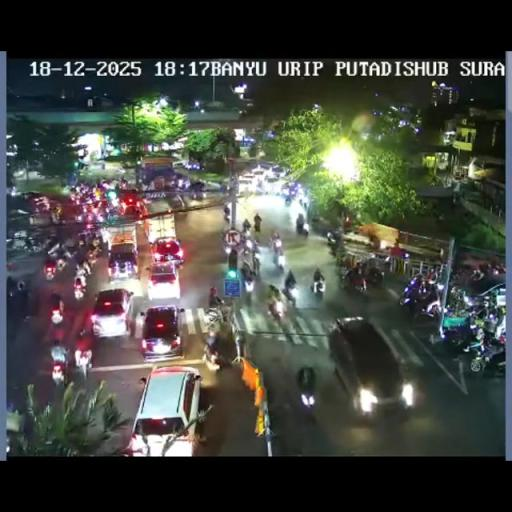Car: (327, 317, 414, 417), (128, 364, 203, 454), (138, 304, 184, 360), (90, 287, 136, 338), (146, 262, 182, 302), (106, 242, 140, 280), (150, 236, 186, 266), (118, 190, 144, 217), (26, 192, 52, 213), (263, 173, 282, 192), (237, 175, 254, 193)
Motorcycle: (222, 197, 310, 310), (401, 279, 442, 319), (466, 334, 505, 372), (438, 312, 476, 347), (477, 294, 505, 332), (278, 178, 309, 211), (202, 300, 231, 330), (445, 286, 470, 316), (342, 267, 368, 293), (266, 286, 283, 319), (6, 276, 28, 300), (204, 340, 222, 369), (283, 270, 298, 304), (74, 353, 92, 380), (310, 266, 325, 297), (364, 266, 385, 288), (299, 382, 316, 408), (73, 266, 88, 295), (84, 242, 102, 266), (240, 235, 258, 258), (50, 360, 65, 386), (294, 211, 309, 236), (43, 257, 58, 281), (76, 229, 94, 249), (234, 328, 246, 358), (271, 245, 285, 269), (26, 238, 44, 256), (242, 282, 254, 308), (190, 184, 206, 201), (104, 202, 119, 220), (240, 264, 254, 283), (335, 261, 348, 281), (50, 306, 64, 324), (488, 262, 506, 276), (49, 206, 62, 224), (82, 210, 96, 226), (424, 267, 438, 283), (470, 267, 484, 282), (100, 226, 111, 245), (208, 286, 218, 306), (328, 240, 338, 258), (56, 255, 66, 273), (223, 238, 233, 256), (252, 254, 261, 272), (254, 181, 265, 195), (254, 213, 262, 232), (62, 246, 72, 261), (74, 208, 84, 223), (218, 182, 228, 196), (452, 190, 461, 204), (222, 208, 230, 223), (242, 222, 251, 235), (284, 194, 292, 206), (298, 198, 306, 210), (176, 178, 184, 189), (69, 192, 77, 202), (99, 160, 106, 170)
